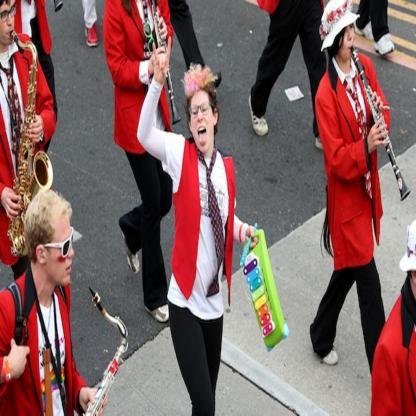face: (48, 216, 75, 287), (191, 91, 214, 154), (338, 19, 356, 60), (1, 1, 16, 45)
